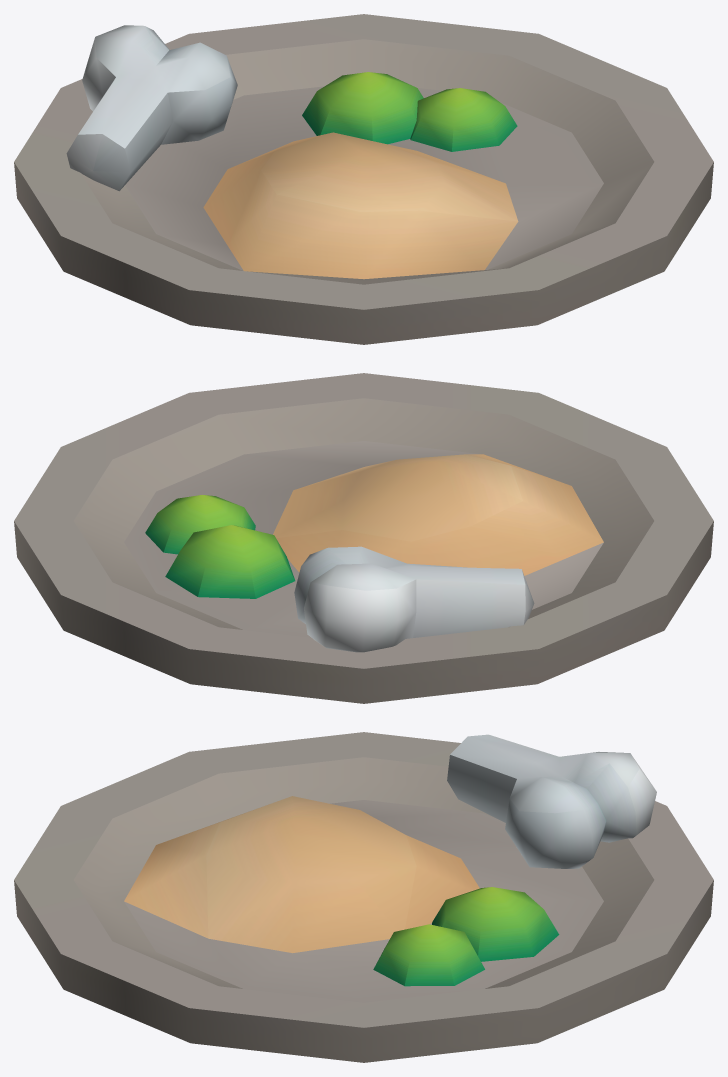
The model's file is plate_food_b.glb.
3 views of the same model, one above another, from view 1: azimuth 30°, elevation 25°; view 2: azimuth 150°, elevation 25°; view 3: azimuth 270°, elevation 25° (orthographic).
Visible parts, largest first — view 1: plate_food_B; view 2: plate_food_B; view 3: plate_food_B.
Part boxes in pixels (x1,y1,x2,y2): plate_food_B: (14, 14, 713, 344); plate_food_B: (14, 373, 713, 703); plate_food_B: (14, 732, 713, 1062).
Size of the model in its own units: 0.9706 by 0.2361 by 0.9706.
Materials: 1 (1 with a texture image).
